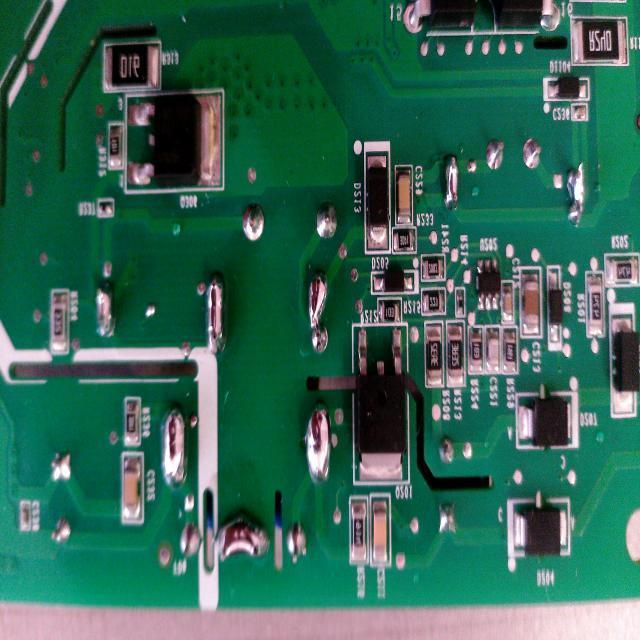Soldering shorted: (210, 501, 270, 567), (300, 260, 334, 358), (197, 264, 230, 354), (160, 396, 190, 493), (304, 398, 332, 487), (94, 266, 118, 342), (568, 160, 586, 234), (444, 145, 461, 215)
